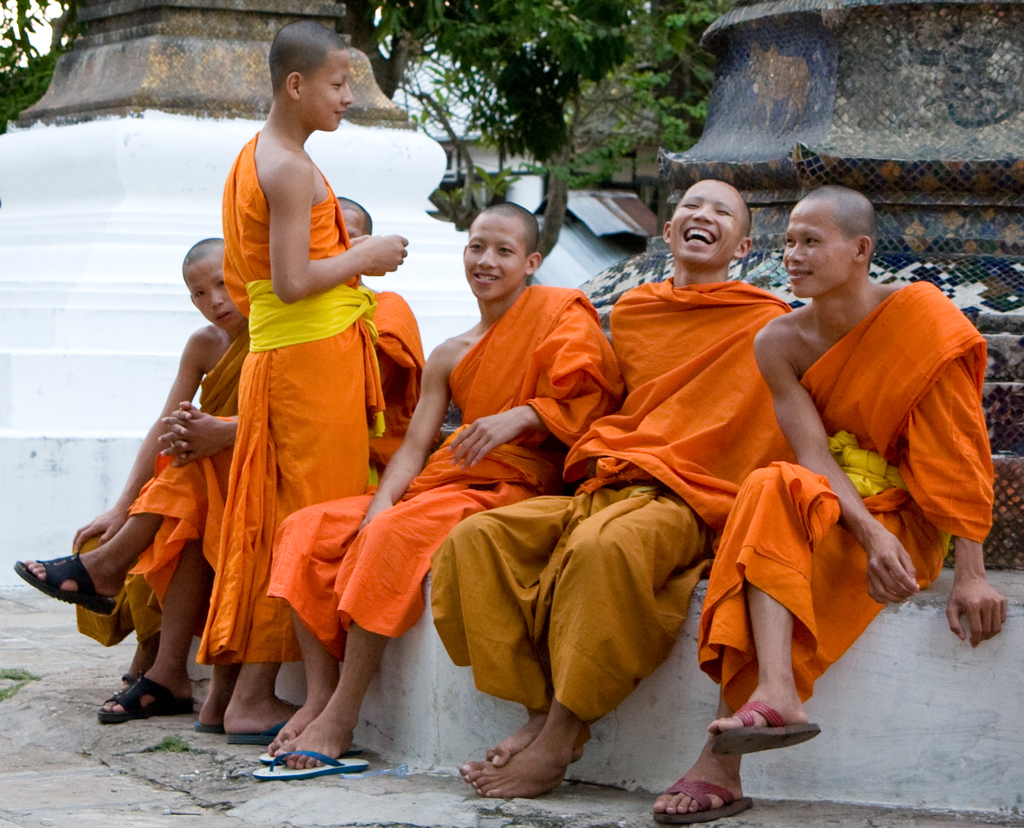Person: (13, 19, 1006, 825)
